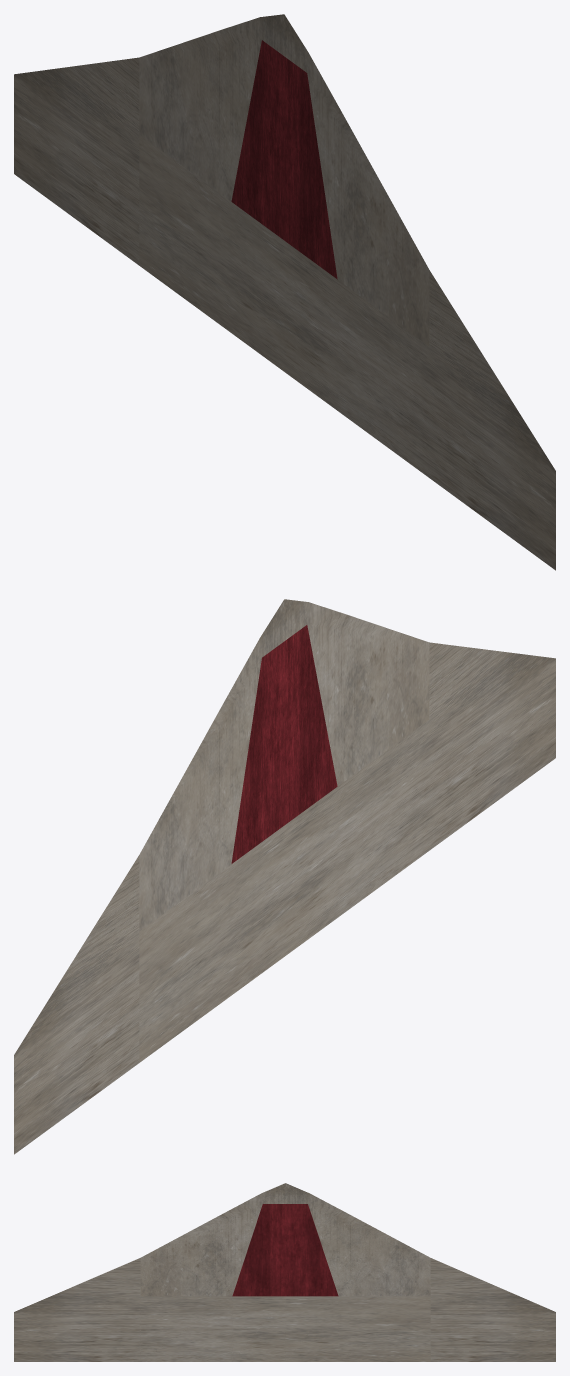
The model's file is SM_R_MiddleBeam_13.fbx.
The picture shows the model from 3 angles, top to bottom: view 1: azimuth 30°, elevation 25°; view 2: azimuth 150°, elevation 25°; view 3: azimuth 270°, elevation 25°; orthographic projection. The views are drawn at different scales.
Visible parts, largest first — view 1: SM_R_MiddleBeam_13; view 2: SM_R_MiddleBeam_13; view 3: SM_R_MiddleBeam_13.
Part boxes in pixels (x1,y1,x2,y2): SM_R_MiddleBeam_13: [14, 14, 555, 570]; SM_R_MiddleBeam_13: [14, 599, 555, 1154]; SM_R_MiddleBeam_13: [14, 1183, 555, 1361].
Size of the model in its own units: 0.000263 by 572 by 208.
Materials: 2 (2 with a texture image).
